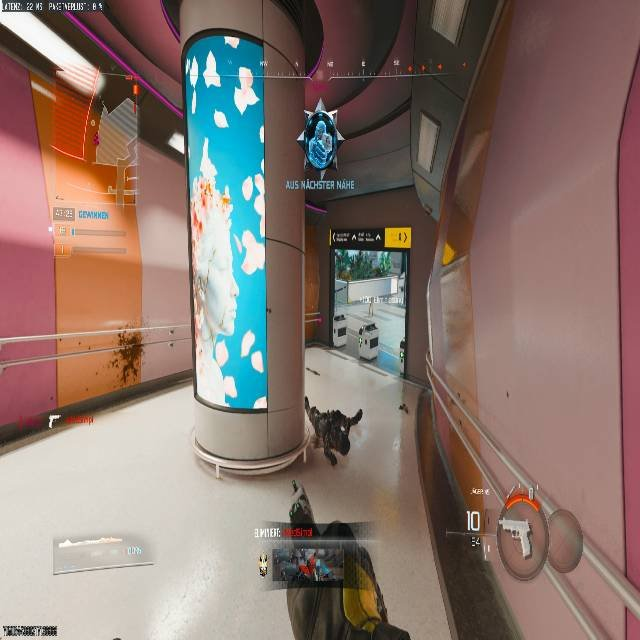player: (114, 331, 144, 383)
